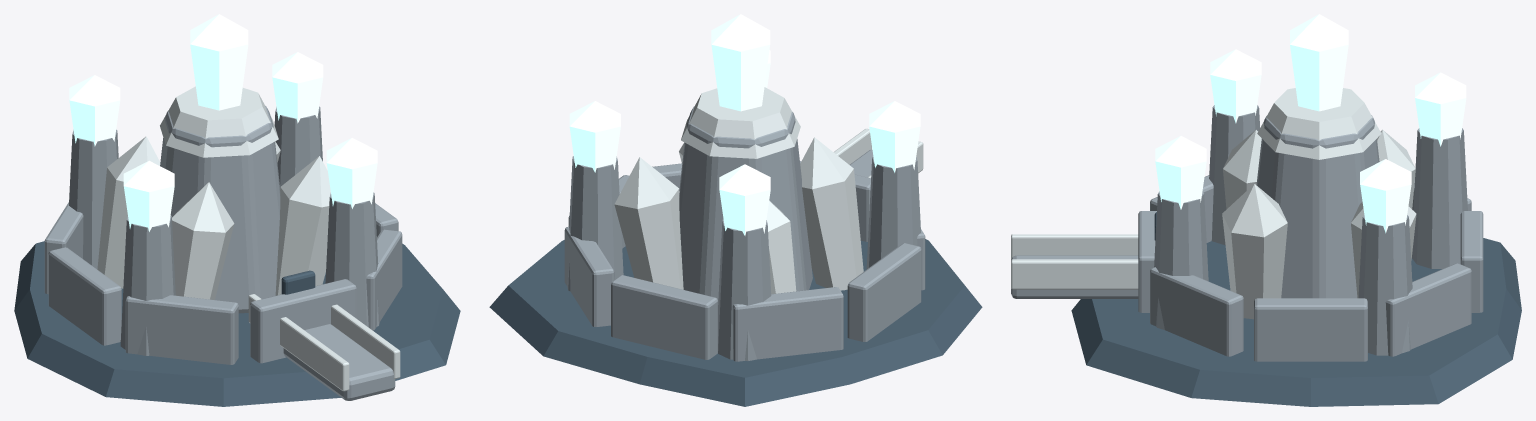
File: frozen-crown-lod2.glb
3 renders of one model, left to right at view 1: azimuth 30°, elevation 25°; view 2: azimuth 150°, elevation 25°; view 3: azimuth 270°, elevation 25°, orthographic.
Parts seen in each view (by area): view 1: STONE_TERRAIN_SOCKET, STONE_CENTRAL_KEEP, STONE_GLACIER_WALL_05, CRYSTAL_BUTTRESS_3, CRYSTAL_BUTTRESS_2, STONE_GLACIER_WALL_04, TRIM_KEEP_CROWN, FX_CORE_BEACON, STONE_GLACIER_WALL_06, STONE_ICE_TOWER_3, STONE_ICE_TOWER_2, STONE_ICE_TOWER_1 (+13 smaller); view 2: STONE_TERRAIN_SOCKET, STONE_CENTRAL_KEEP, CRYSTAL_BUTTRESS_2, STONE_GLACIER_WALL_02, STONE_GLACIER_WALL_03, CRYSTAL_BUTTRESS_0, STONE_GLACIER_WALL_04, TRIM_KEEP_CROWN, STONE_ICE_TOWER_1, FX_CORE_BEACON, STONE_ICE_TOWER_2, STONE_ICE_TOWER_0 (+7 smaller); view 3: STONE_TERRAIN_SOCKET, STONE_CENTRAL_KEEP, STONE_GLACIER_WALL_00, STONE_ICE_TOWER_1, CRYSTAL_BUTTRESS_3, STONE_GLACIER_WALL_07, STONE_GLACIER_WALL_01, STONE_ICE_TOWER_0, TRIM_KEEP_CROWN, FX_CORE_BEACON, STONE_ICE_TOWER_3, TRIM_BRIDGE_RAIL_1 (+13 smaller).
Boxes of the visible parts, box(x1,y1,x2,y2) form: STONE_TERRAIN_SOCKET: box(14, 241, 460, 406); STONE_CENTRAL_KEEP: box(160, 106, 280, 313); STONE_GLACIER_WALL_05: box(125, 295, 238, 364); CRYSTAL_BUTTRESS_3: box(275, 156, 330, 295); CRYSTAL_BUTTRESS_2: box(172, 182, 234, 299); STONE_GLACIER_WALL_04: box(48, 247, 121, 345); TRIM_KEEP_CROWN: box(160, 86, 278, 157); FX_CORE_BEACON: box(190, 14, 248, 110); STONE_GLACIER_WALL_06: box(250, 279, 356, 363); STONE_ICE_TOWER_3: box(325, 192, 379, 327); STONE_ICE_TOWER_2: box(120, 215, 175, 355); STONE_ICE_TOWER_1: box(69, 129, 118, 269); STONE_TERRAIN_SOCKET: box(489, 239, 982, 406); STONE_CENTRAL_KEEP: box(679, 106, 812, 304); CRYSTAL_BUTTRESS_2: box(800, 137, 863, 290); STONE_GLACIER_WALL_02: box(611, 275, 717, 359); STONE_GLACIER_WALL_03: box(732, 287, 843, 361); CRYSTAL_BUTTRESS_0: box(614, 157, 683, 289); STONE_GLACIER_WALL_04: box(847, 243, 921, 341); TRIM_KEEP_CROWN: box(681, 87, 800, 158); STONE_ICE_TOWER_1: box(718, 219, 771, 360); FX_CORE_BEACON: box(711, 14, 770, 111); STONE_ICE_TOWER_2: box(866, 156, 920, 269); STONE_ICE_TOWER_0: box(567, 156, 623, 290); STONE_TERRAIN_SOCKET: box(1071, 238, 1521, 406); STONE_CENTRAL_KEEP: box(1256, 115, 1379, 298); STONE_GLACIER_WALL_00: box(1254, 298, 1367, 361); STONE_ICE_TOWER_1: box(1412, 128, 1467, 268); CRYSTAL_BUTTRESS_3: box(1222, 184, 1287, 319); STONE_GLACIER_WALL_07: box(1150, 267, 1243, 356); STONE_GLACIER_WALL_01: box(1385, 263, 1471, 356); STONE_ICE_TOWER_0: box(1358, 215, 1412, 355); TRIM_KEEP_CROWN: box(1257, 88, 1381, 159); FX_CORE_BEACON: box(1290, 14, 1348, 111); STONE_ICE_TOWER_3: box(1154, 191, 1208, 329); TRIM_BRIDGE_RAIL_1: box(1011, 259, 1138, 289).
Bounding box in the file's own units: 1.61 × 1.16 × 1.81.
